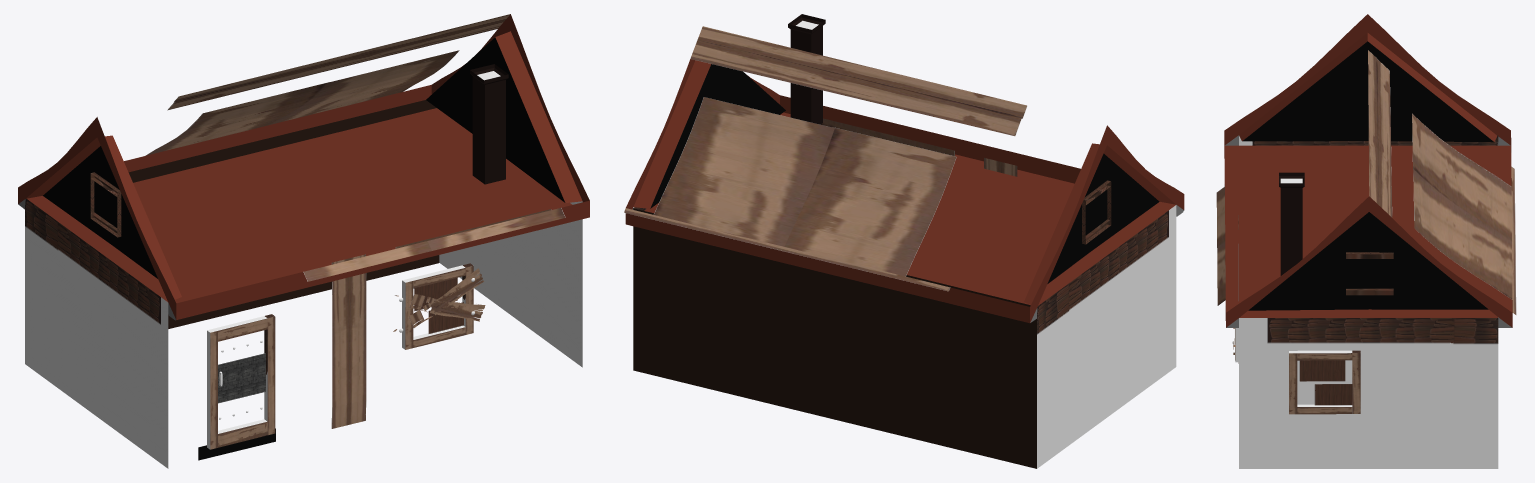
The model's file is Farmer House + Textures FINISH.fbx.
3 views of the same model, side by side, from view 1: azimuth 30°, elevation 25°; view 2: azimuth 150°, elevation 25°; view 3: azimuth 270°, elevation 25° (orthographic). The views are drawn at different scales.
Parts seen in each view (by area): view 1: windows.002; view 2: windows.002; view 3: windows.002.
Part boxes in pixels (x1=…): windows.002: x1=18, y1=14, x2=589, y2=468; windows.002: x1=624, y1=14, x2=1184, y2=468; windows.002: x1=1216, y1=14, x2=1516, y2=468.
Bounding box in the file's own units: 391 × 267 × 270.
